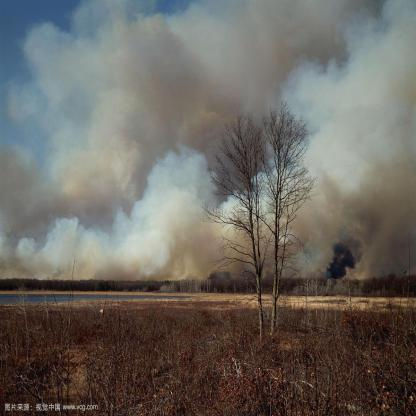smoke: (80, 21, 188, 270), (304, 30, 412, 114), (328, 158, 413, 236), (7, 165, 72, 257), (196, 18, 263, 104), (327, 245, 354, 268)
